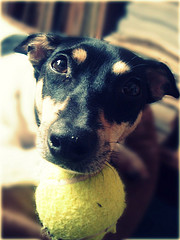tennis ball: (33, 157, 130, 240)
